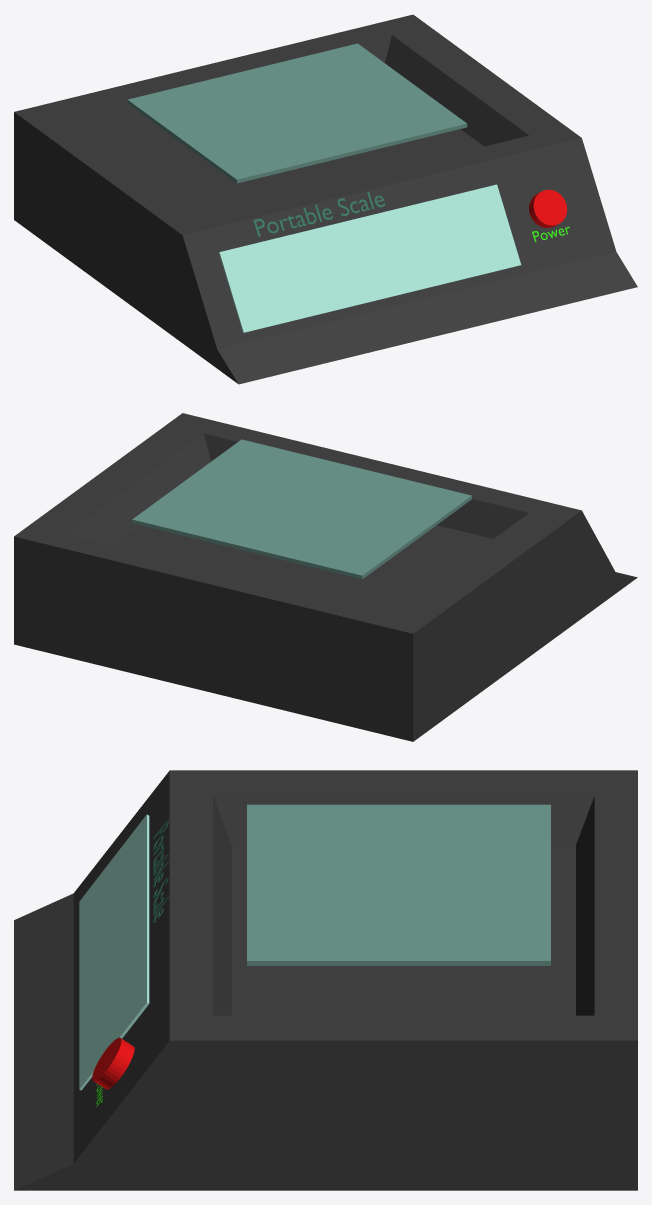
File: scale.glb
3 renders of one model, top to bottom at view 1: azimuth 30°, elevation 25°; view 2: azimuth 150°, elevation 25°; view 3: azimuth 270°, elevation 25°, orthographic. The views are drawn at different scales.
Parts seen in each view (by area): view 1: Cube, Cube.002, Cube.001, Cylinder, Text; view 2: Cube, Cube.002; view 3: Cube, Cube.002, Cube.001, Cylinder, Text.
Boxes of the visible parts, x1=… form: Cube: x1=14, y1=14, x2=637, y2=384; Cube.002: x1=127, y1=43, x2=467, y2=183; Cube.001: x1=219, y1=184, x2=521, y2=332; Cylinder: x1=529, y1=189, x2=567, y2=227; Text: x1=253, y1=192, x2=385, y2=236; Cube: x1=14, y1=413, x2=637, y2=741; Cube.002: x1=132, y1=439, x2=471, y2=579; Cube: x1=14, y1=770, x2=637, y2=1190; Cube.002: x1=247, y1=804, x2=550, y2=965; Cube.001: x1=79, y1=814, x2=149, y2=1090; Cylinder: x1=92, y1=1037, x2=134, y2=1089; Text: x1=153, y1=820, x2=168, y2=922.
Bounding box in the file's own units: 0.3017 × 0.089 × 0.2941.
